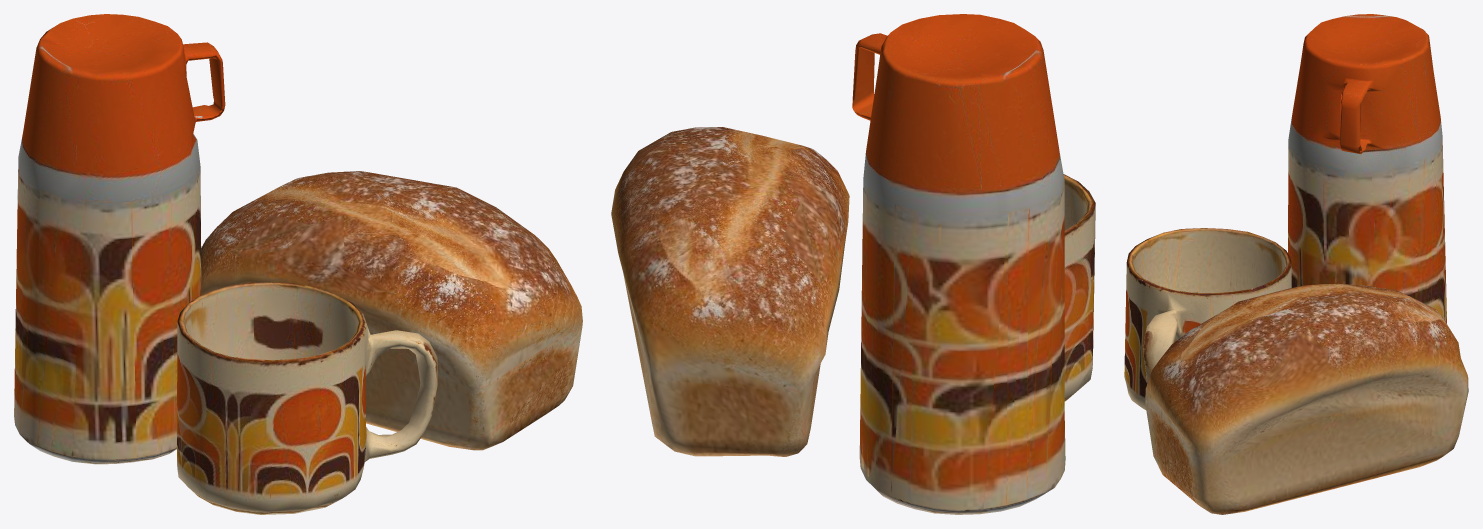
Rendered from table_items.glb.
3 views of the same model, side by side, from view 1: azimuth 30°, elevation 25°; view 2: azimuth 150°, elevation 25°; view 3: azimuth 270°, elevation 25° (orthographic). The views are drawn at different scales.
Visible parts, largest first — view 1: Mesh_0; view 2: Mesh_0; view 3: Mesh_0.
Boxes of the visible parts, x1,y1,x2,y2 form: Mesh_0: (14, 14, 582, 514); Mesh_0: (611, 14, 1095, 514); Mesh_0: (1124, 14, 1468, 514).
Size of the model in its own units: 0.3764 by 0.3 by 0.2836.
1 material, 1 textured.
